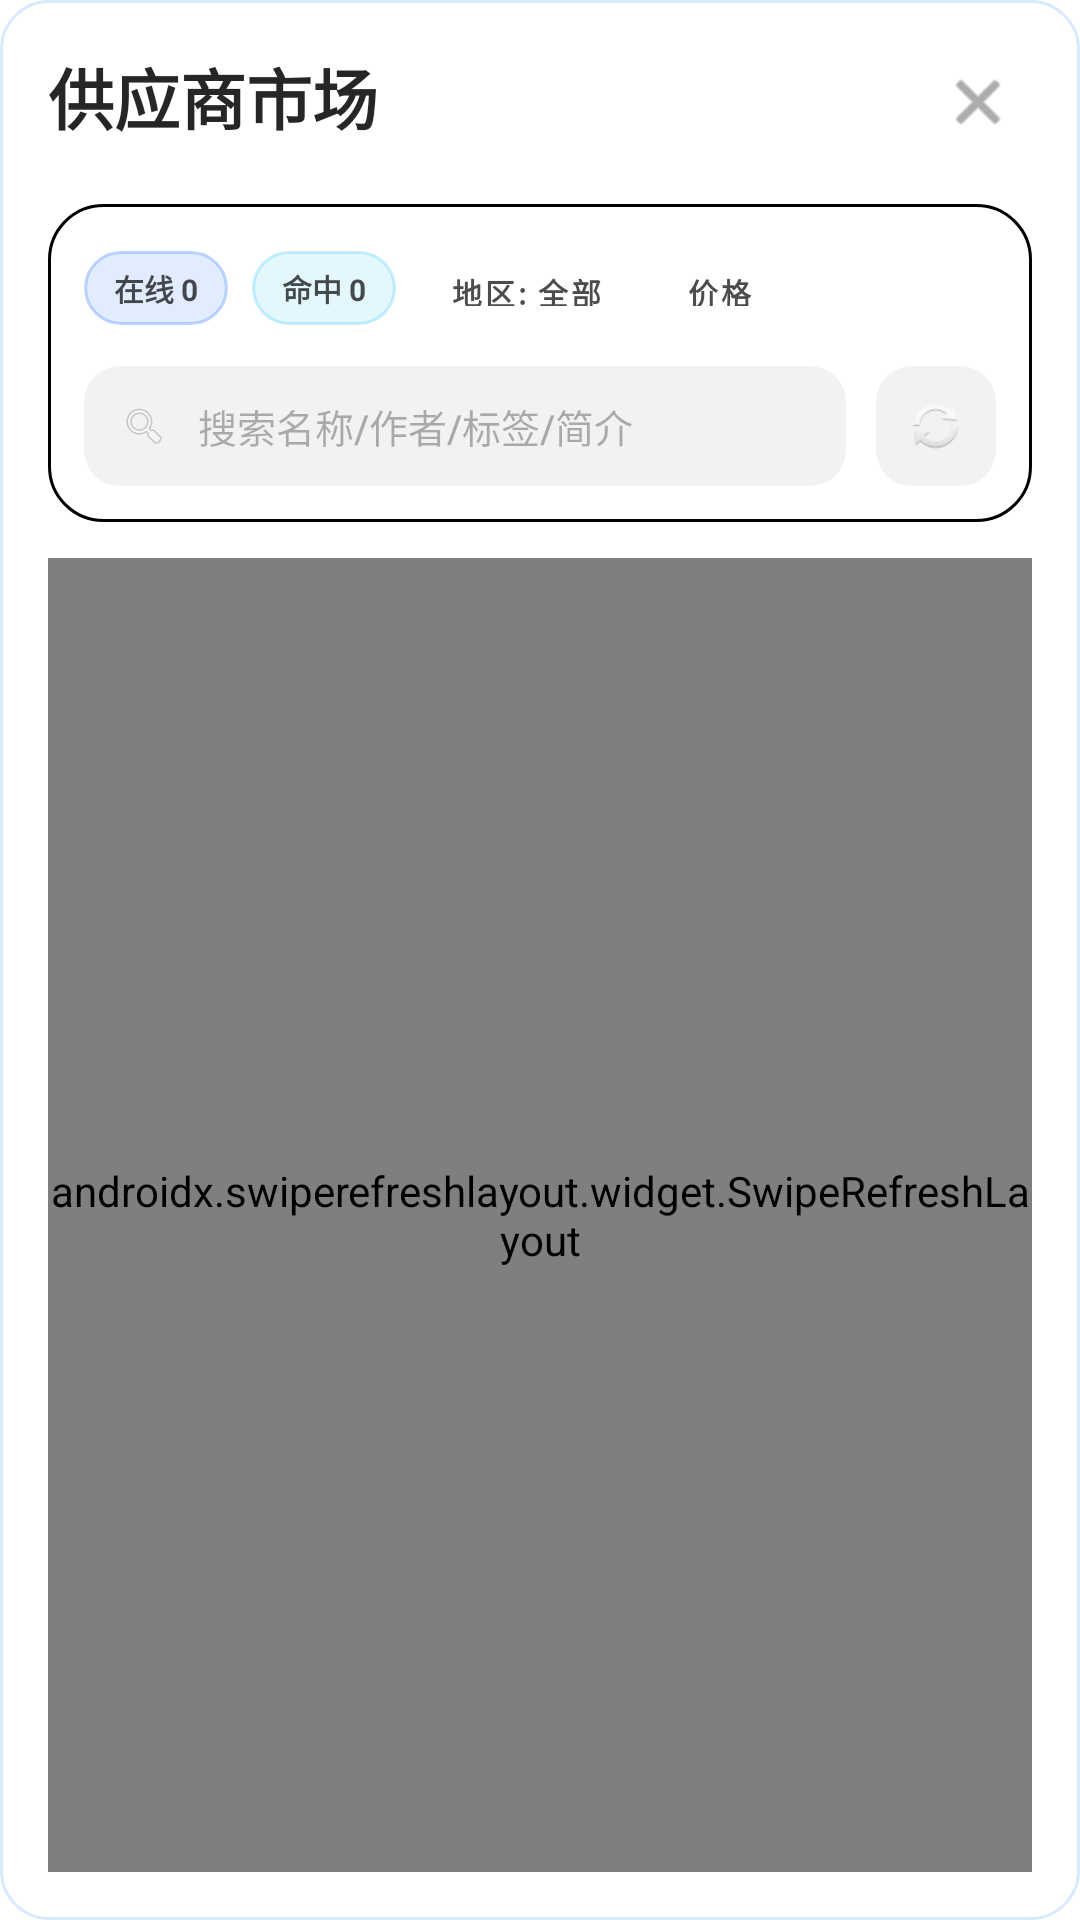

Screen size 1080px×1920px. Icon name, then its box in pixels as (left=x1, top=y1, right=x2, bottom=y2):
Close: (left=956, top=80, right=1000, bottom=124)
search: (left=127, top=409, right=161, bottom=444)
